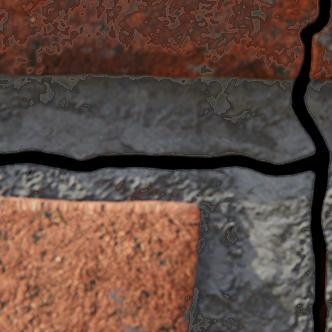brick: (0, 197, 200, 331)
broken_brick: (0, 0, 318, 80), (311, 10, 331, 81)
crack: (0, 0, 331, 331), (249, 60, 263, 76)
